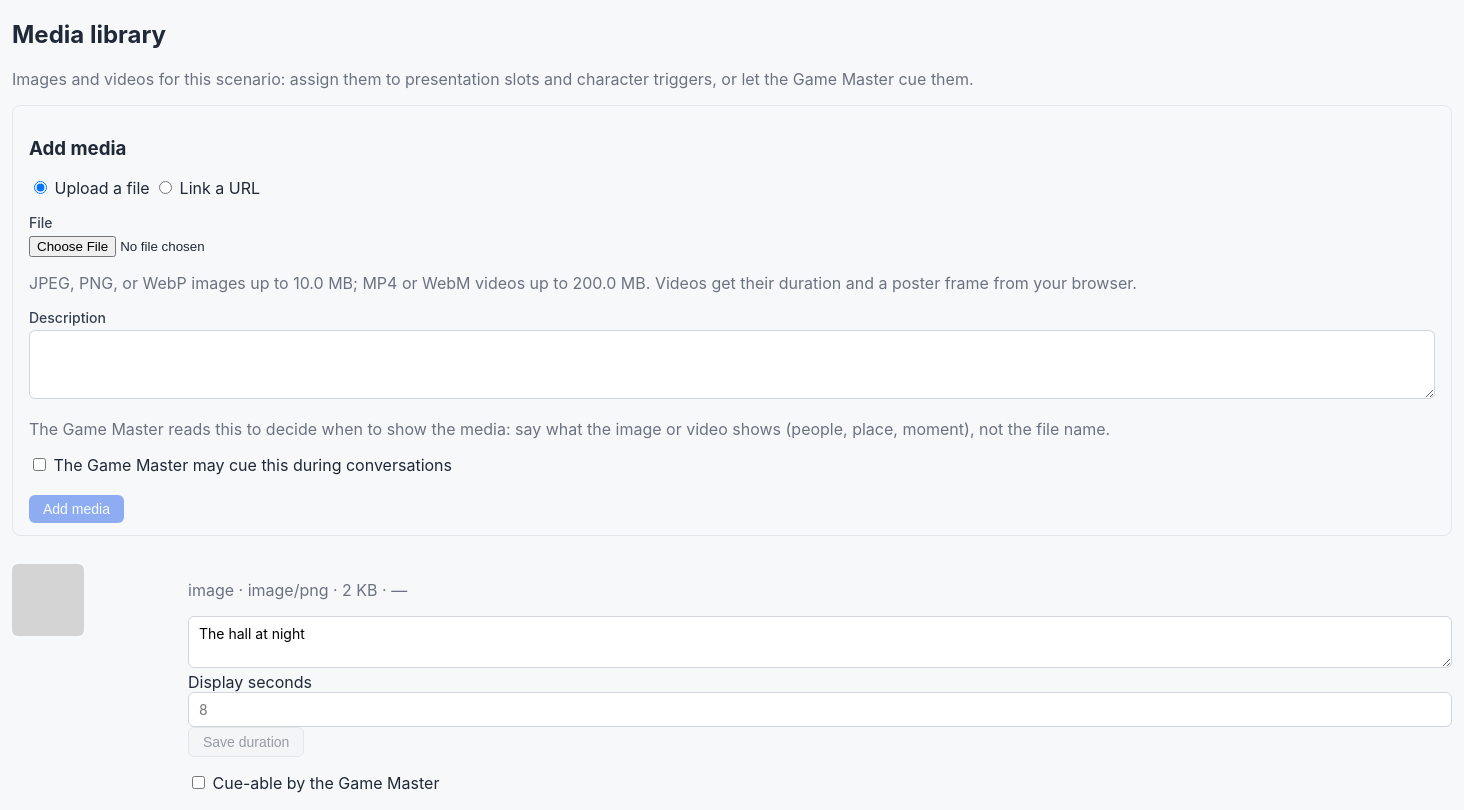
media library › links a URL asset with its type and description
Click the radio button labelled "Link a URL" at coordinates (166, 188), box [159,181,172,194]
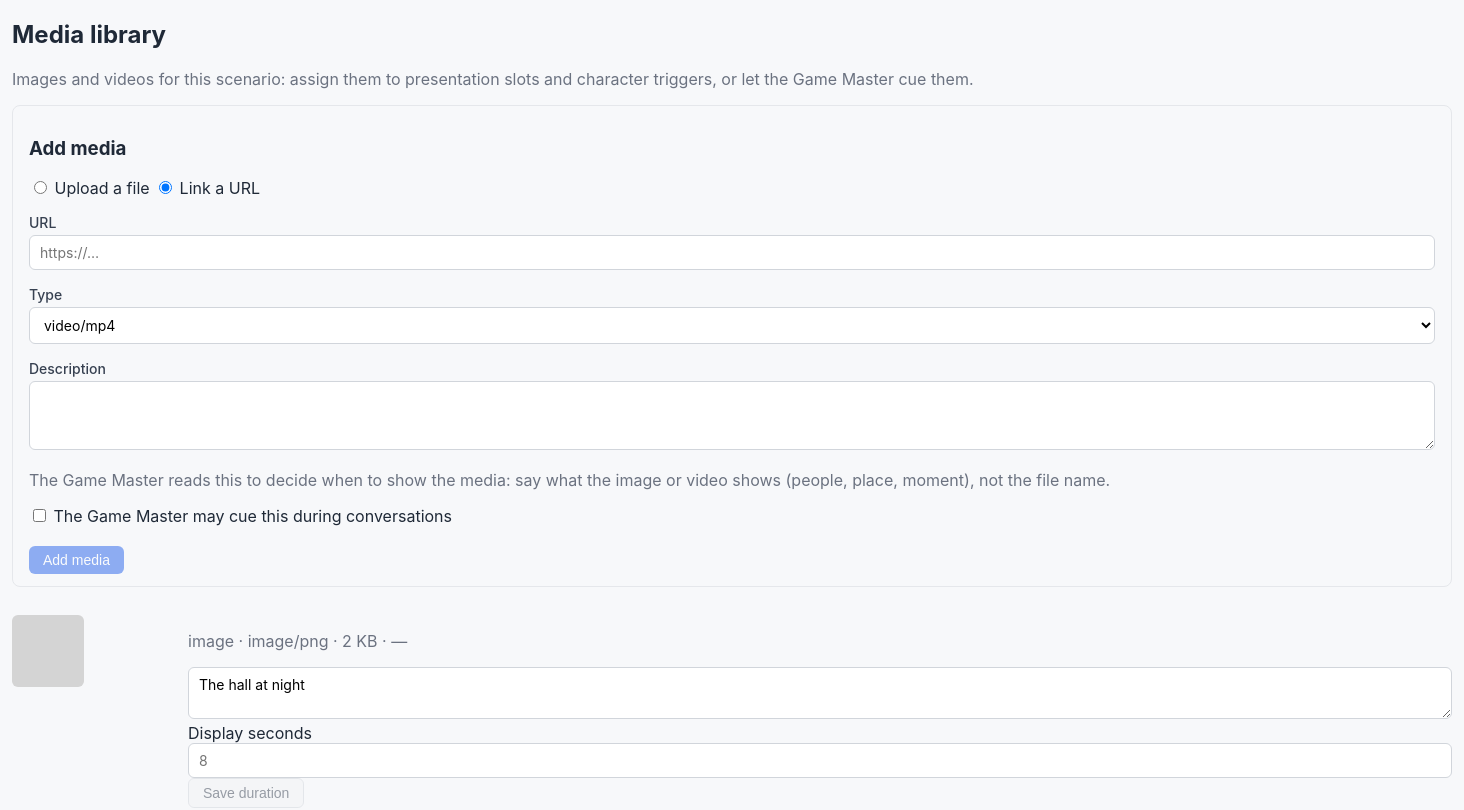
Type "https://cdn.test/a.mp4" into the field labelled "URL" at coordinates (732, 253), box [29,235,1435,270]
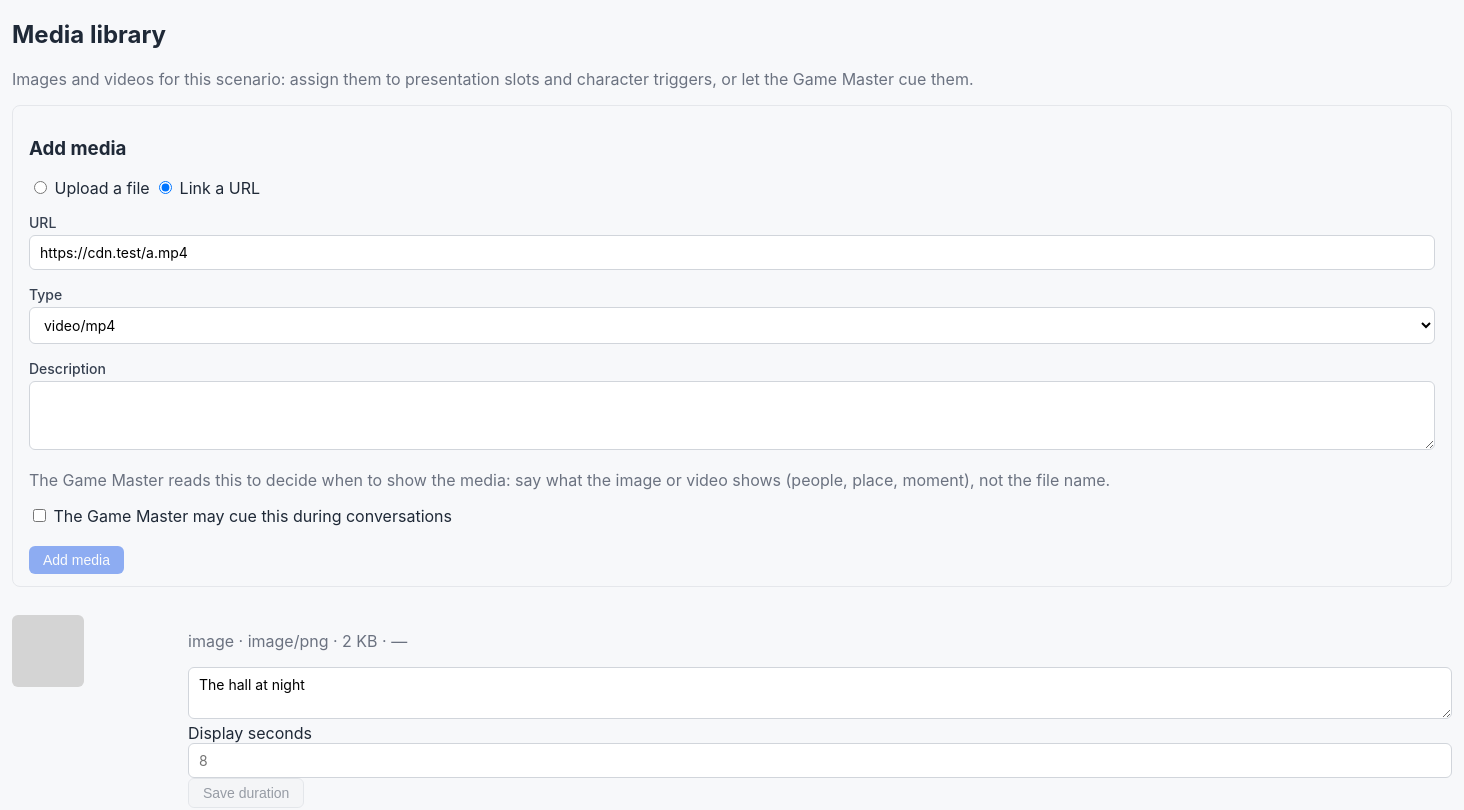
Type "Arrival at the chalet" into the text box labelled "Description" at coordinates (732, 416), box [29,381,1435,450]
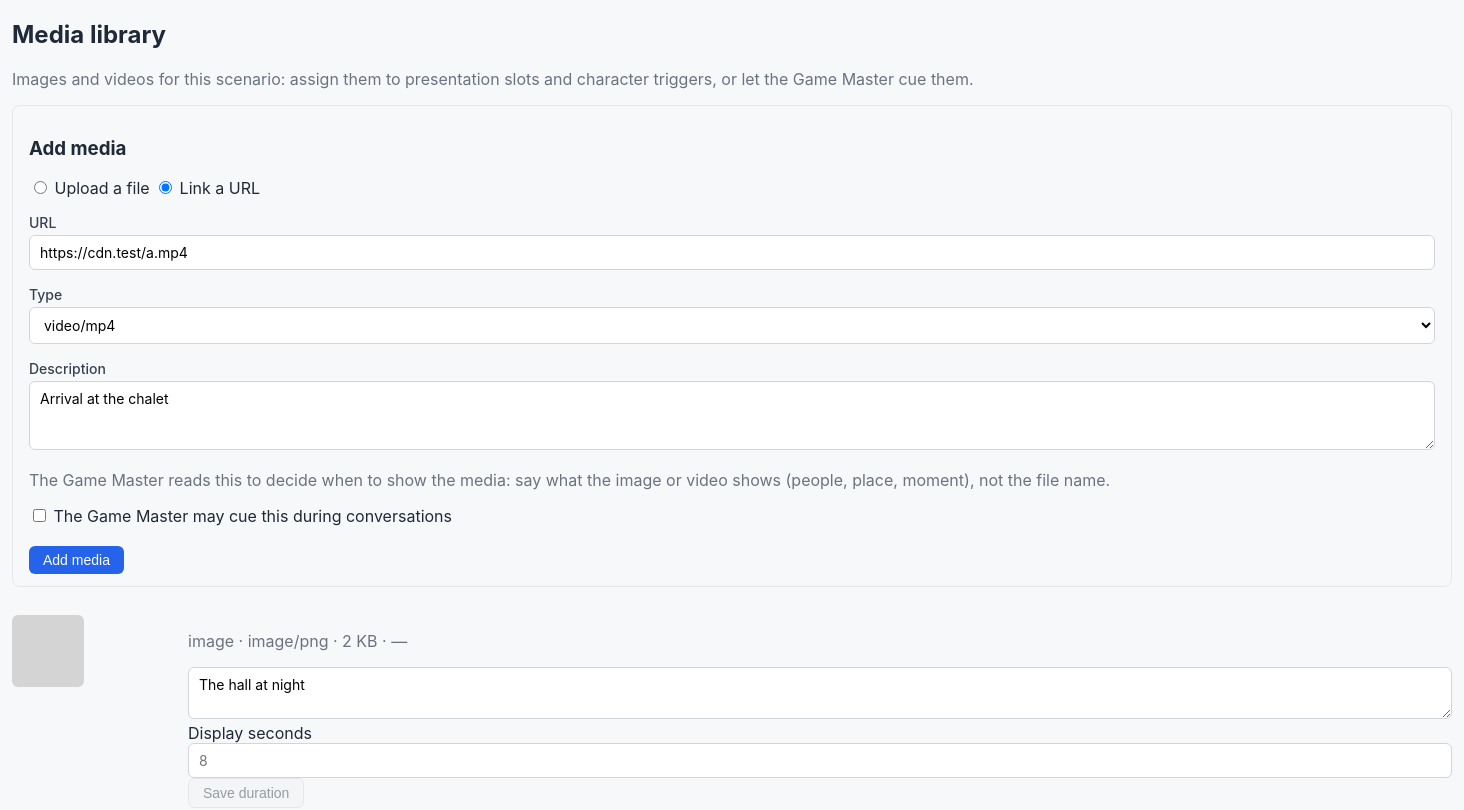
Click the checkbox labelled "The Game Master may cue this during conversations" at coordinates (40, 516), box [33,509,46,522]
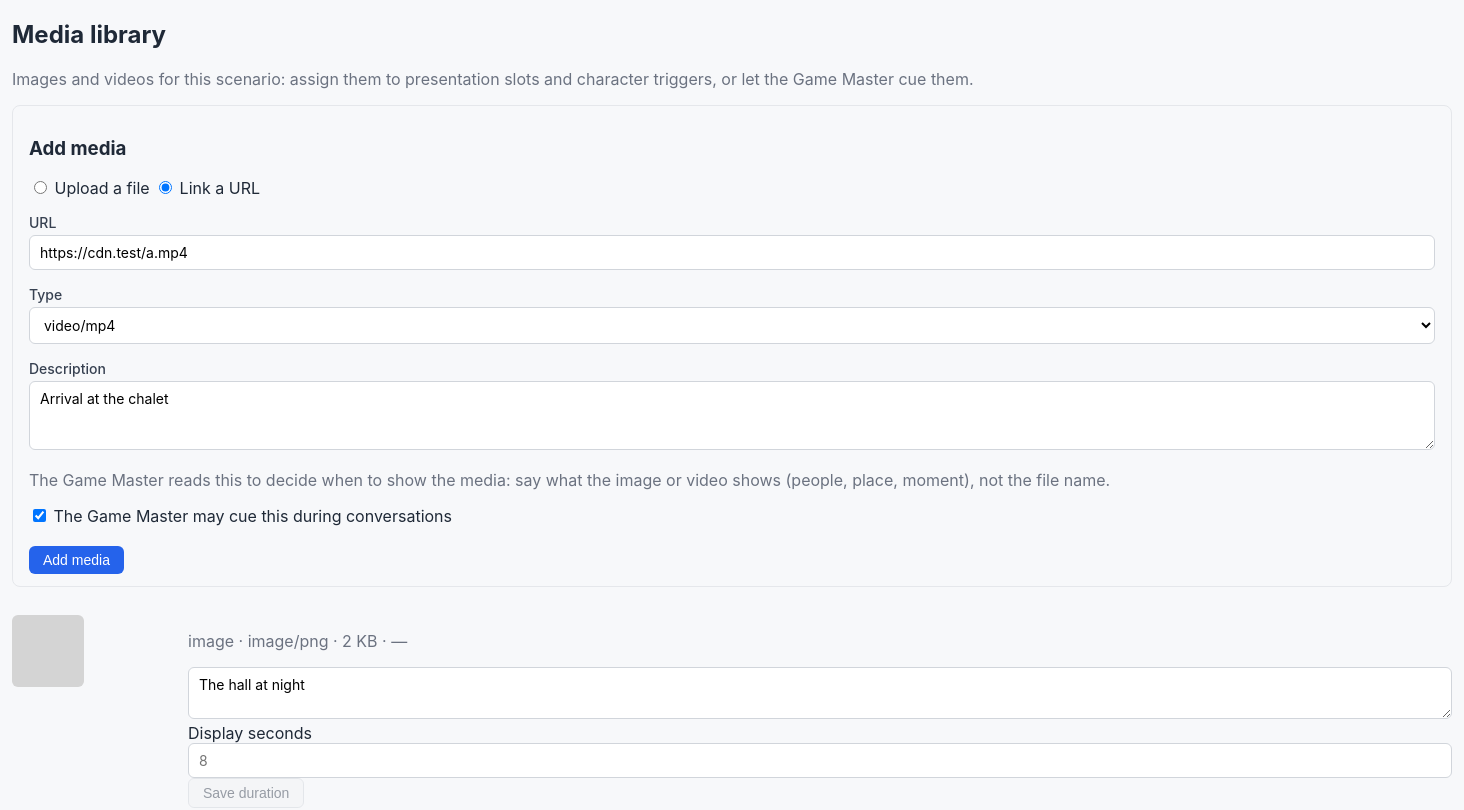
Click the button "Add media" at coordinates (76, 560), box [29,546,124,574]
(page scrolled)
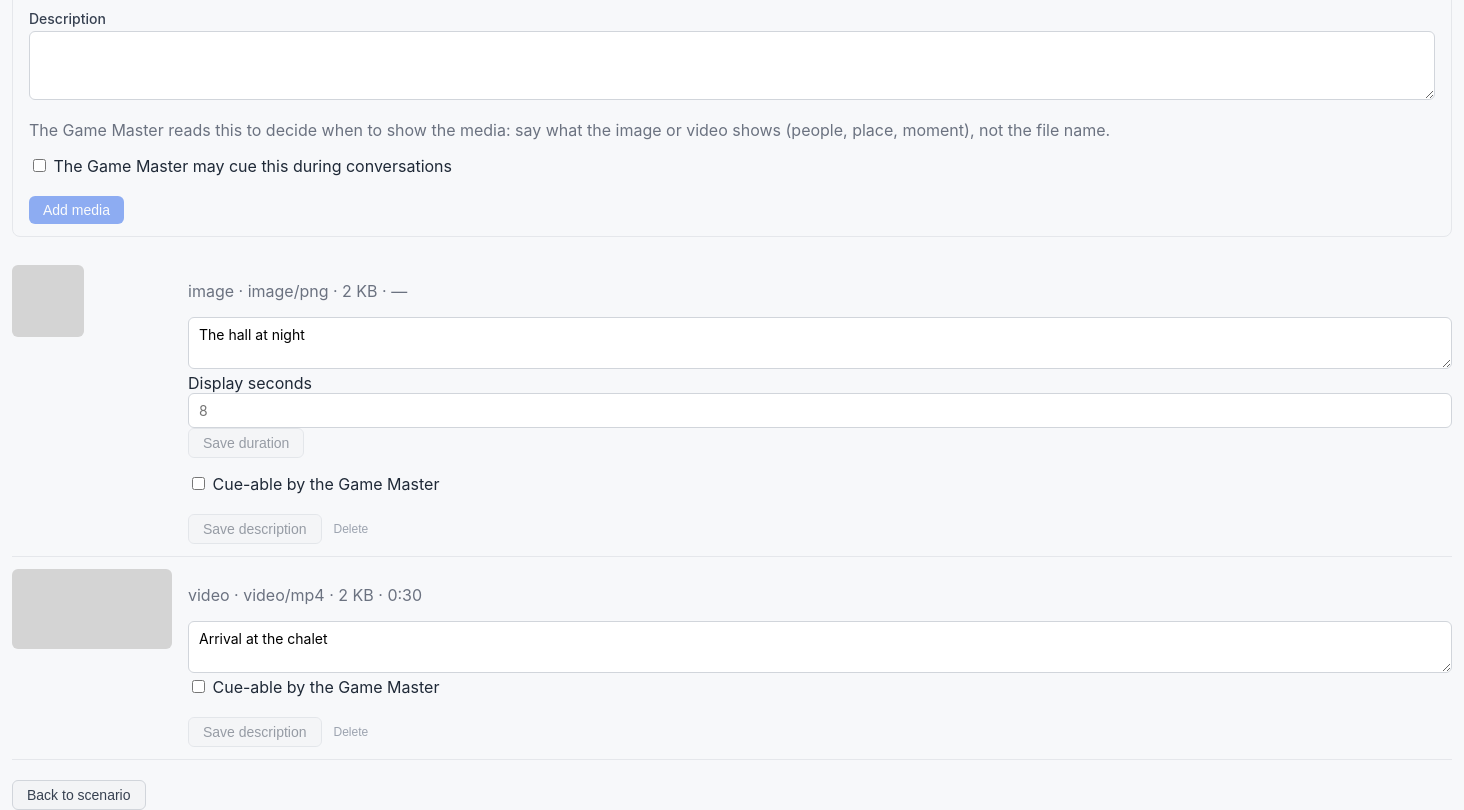
Result: the list item with aria-label "Arrival at the chalet" is shown at [12,557,1452,760]
